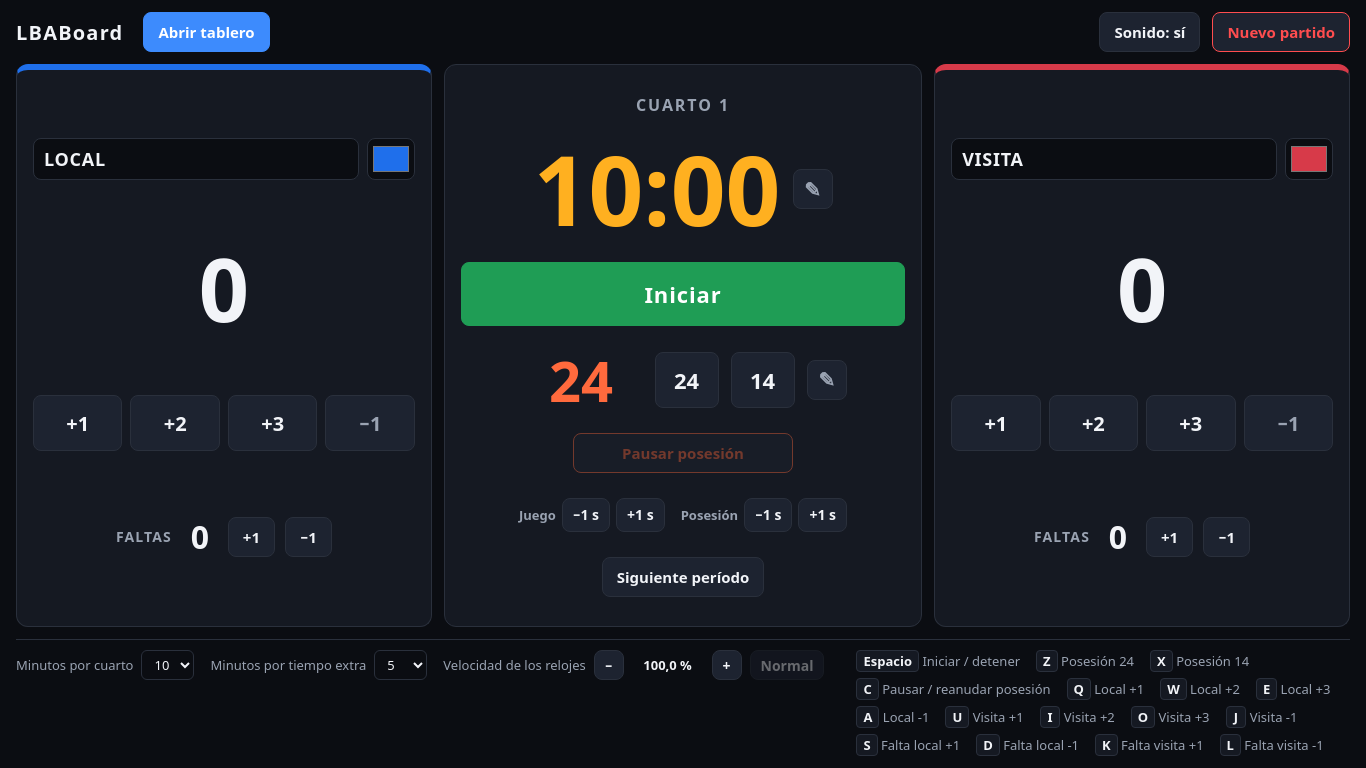
Test case: Control › sets the game clock to a typed time with the pencil, also while it runs
The width and height of the screenshot is (1366, 768).
Click the button named "Editar tiempo de juego" at (812, 189), box [792,169,832,209]
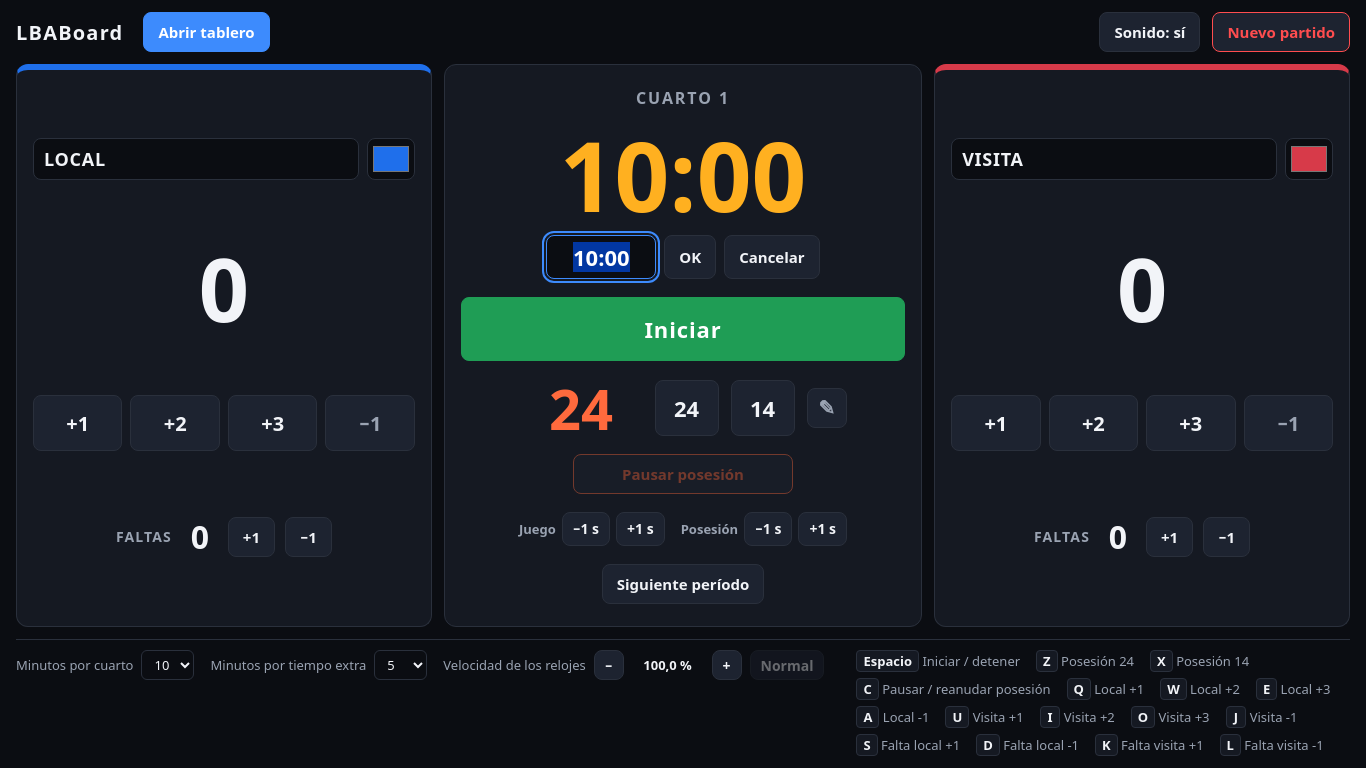
Now the field named "Valor de tiempo de juego" holds "10:00"
Replace the text in the field named "Valor de tiempo de juego" with "4:30" at (601, 257), box [546,235,656,279]
Submit the form from the field named "Valor de tiempo de juego", box [546,235,656,279]
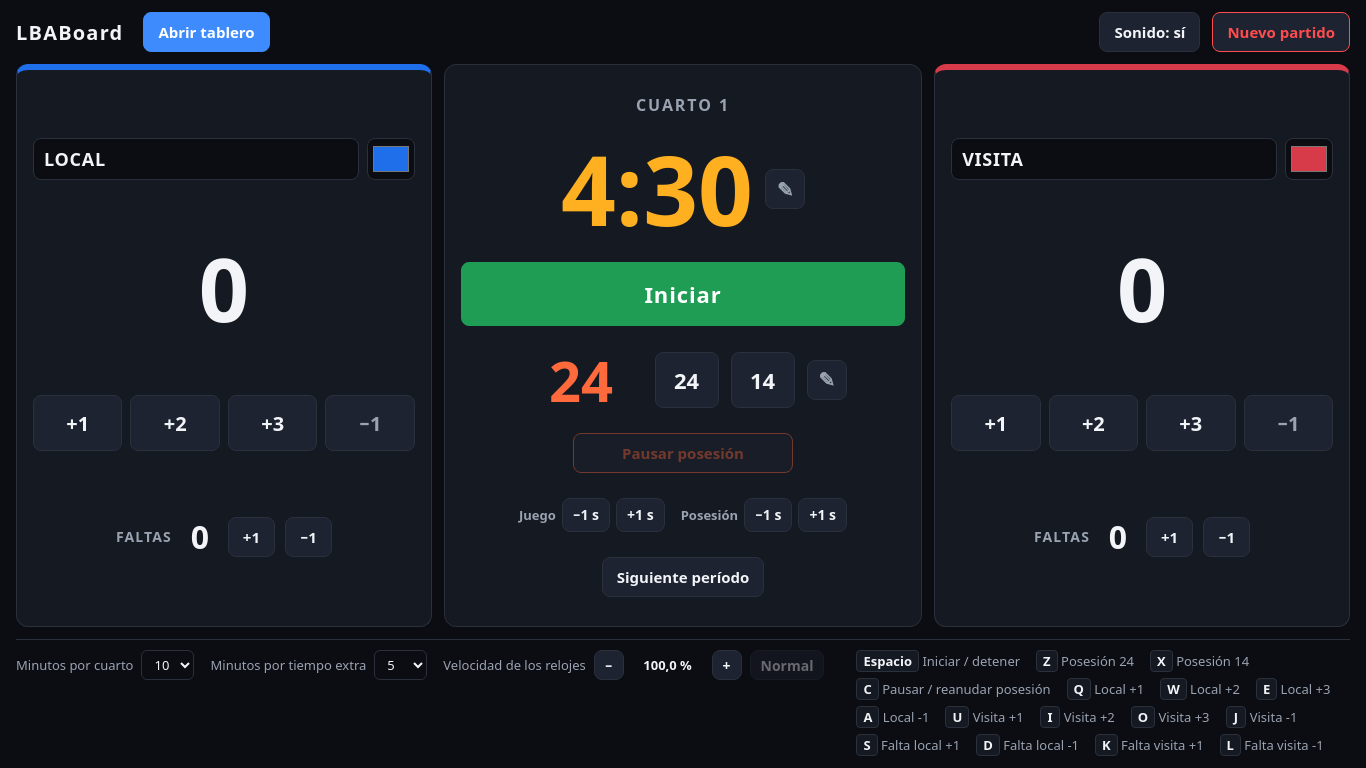
Now the text "4:30" is shown, box [561,141,753,237]
Click the button "Iniciar" at (683, 294), box [461,262,905,326]
Wait 2000 ms
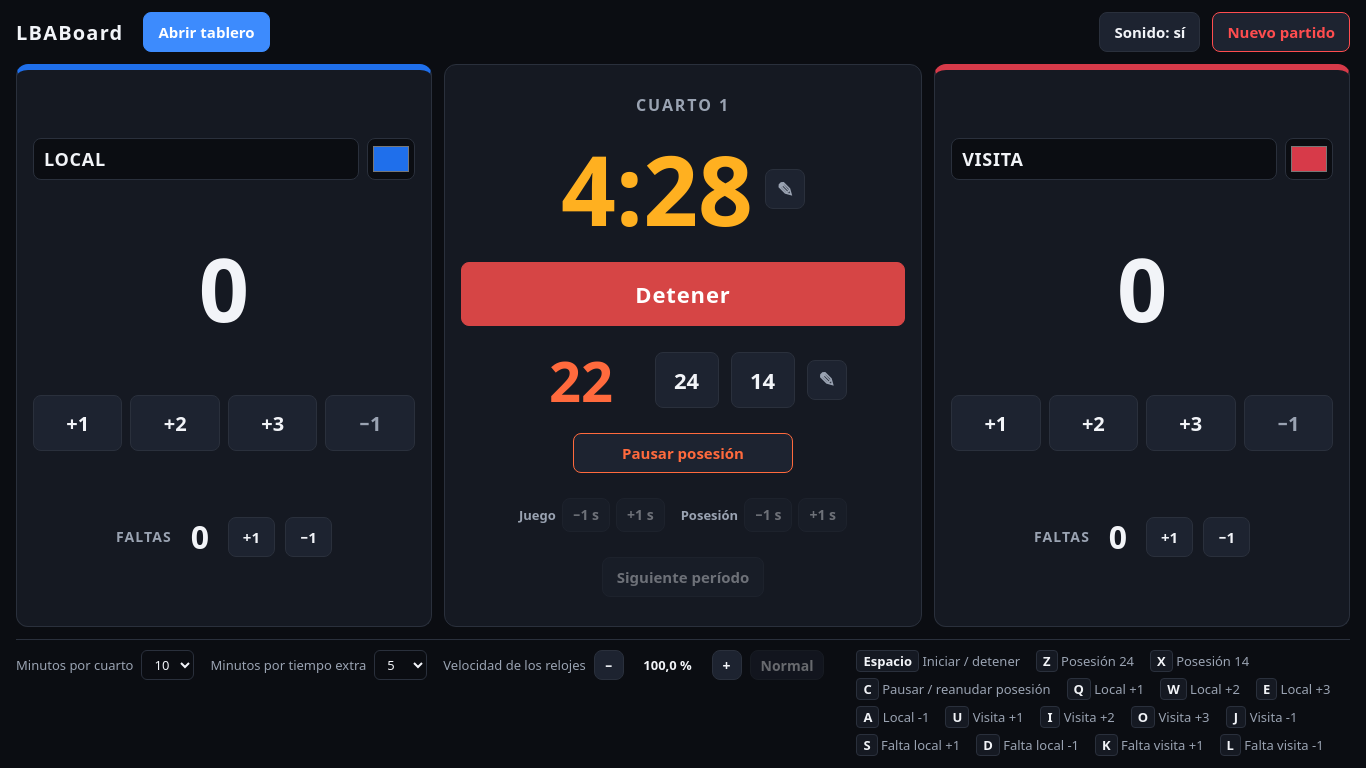
Click the button named "Editar tiempo de juego" at (785, 189), box [765,169,805,209]
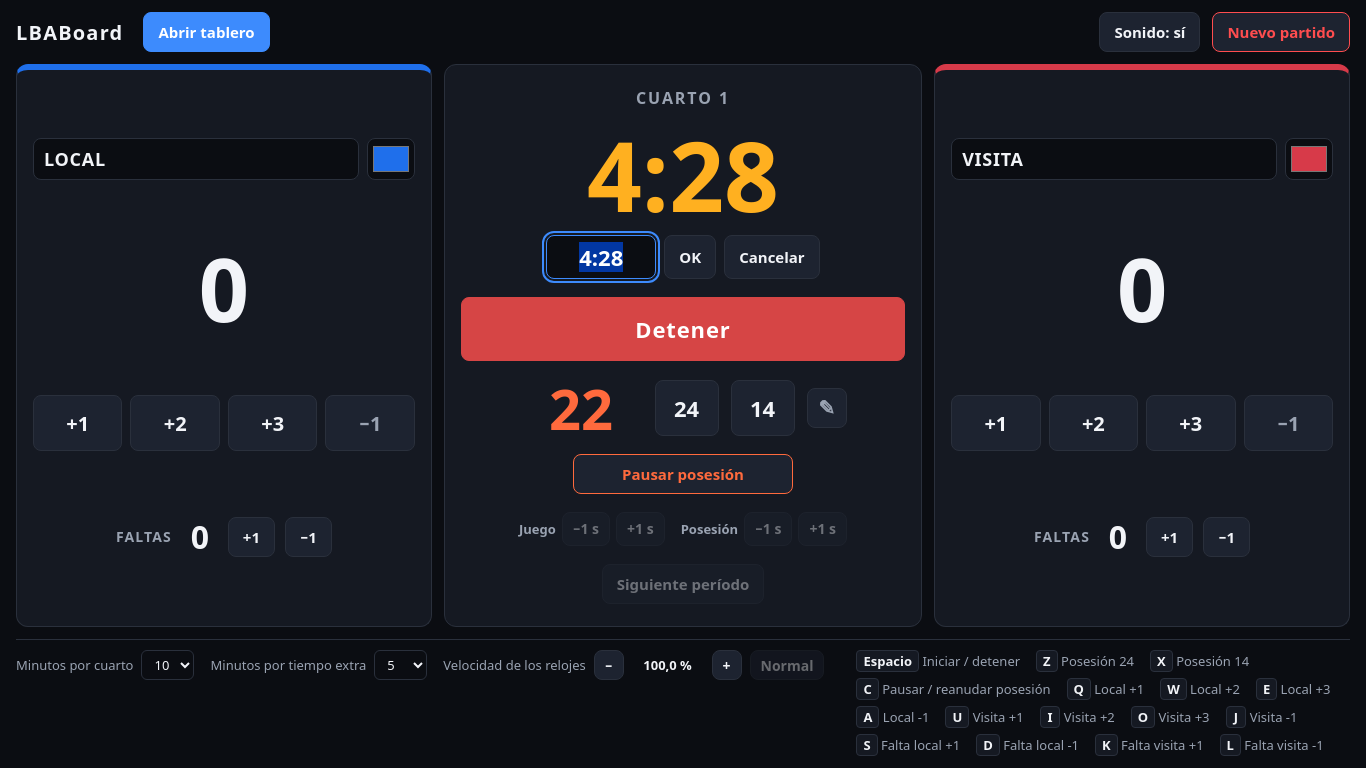
Replace the text in the field named "Valor de tiempo de juego" with "3:00" at (601, 257), box [546,235,656,279]
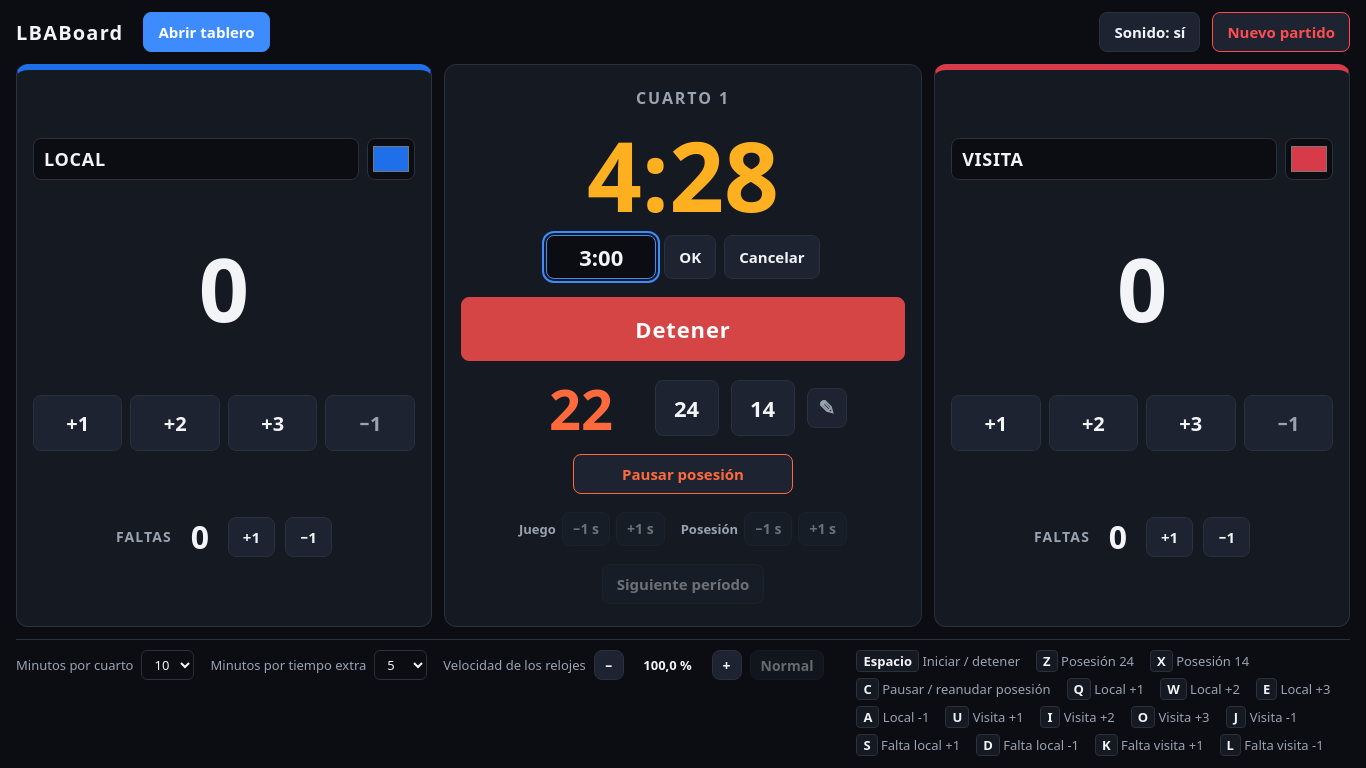
Click the button "OK" at (690, 257), box [664,235,716,279]
Wait 1000 ms
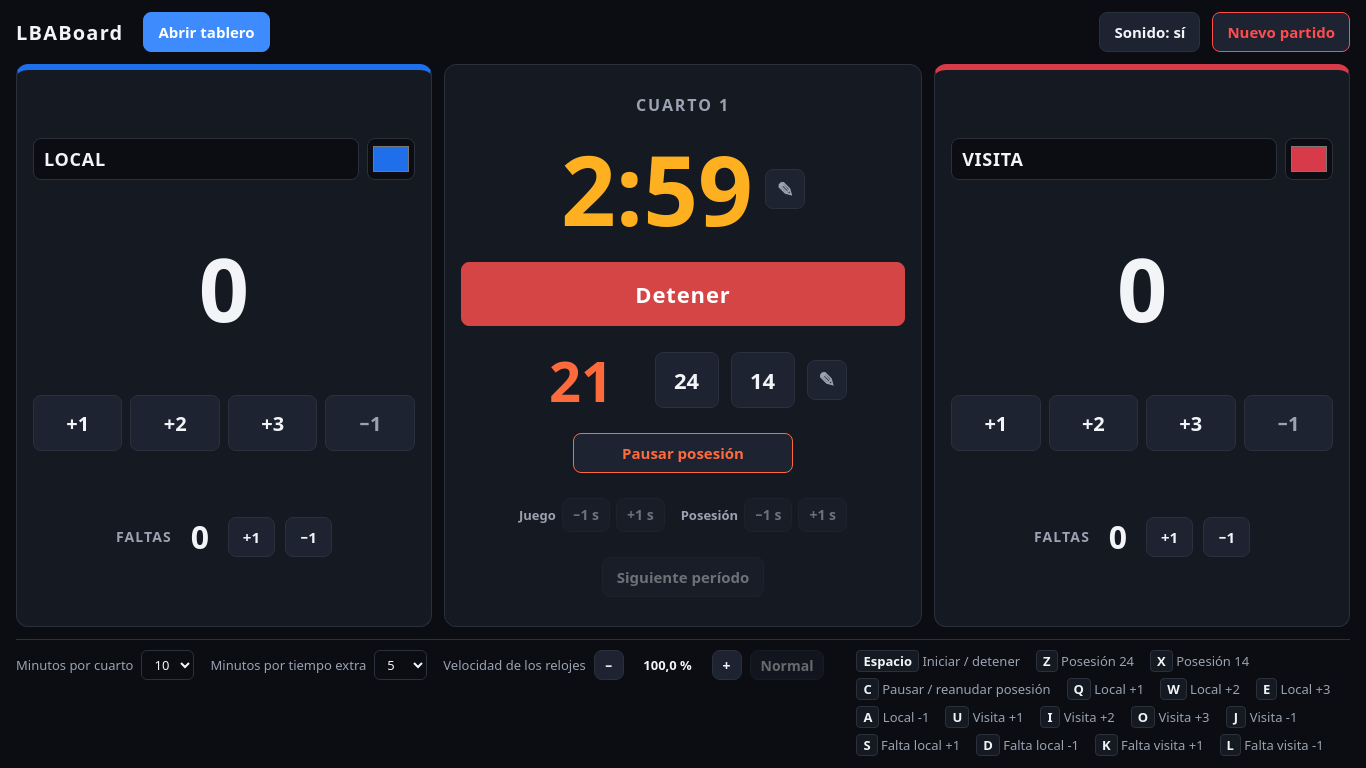
Now the button "Detener" is shown, box [461,262,905,326]
Now the text "2:59" is shown, box [561,141,753,237]
